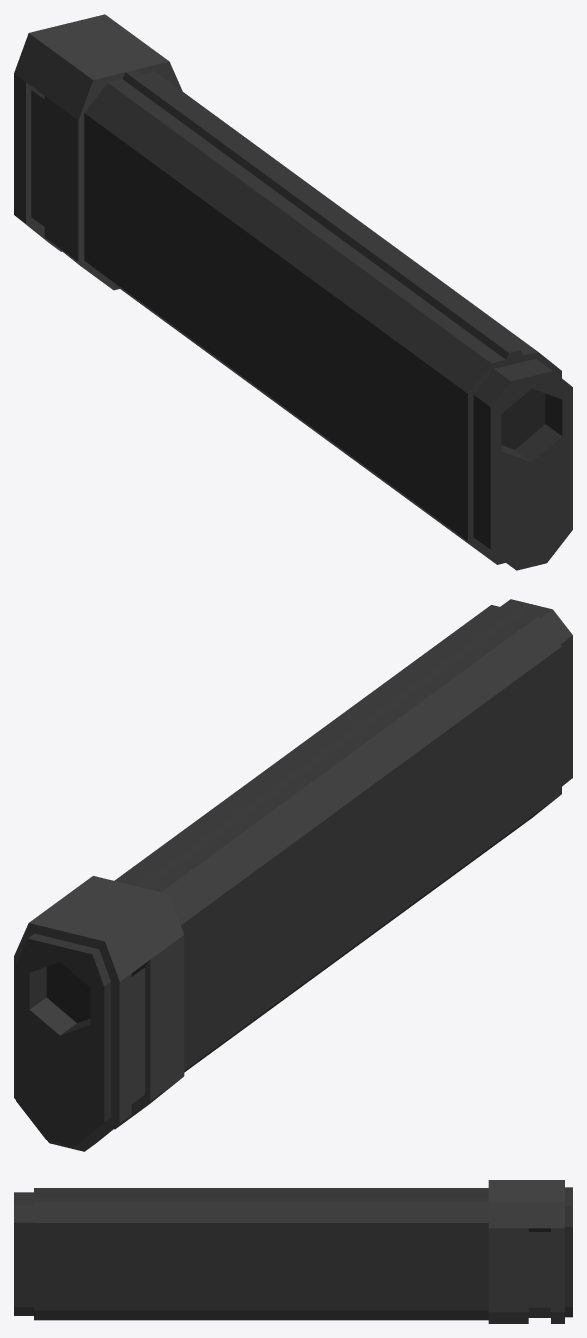
The model's file is Muzzle_ShotGun_Suppresor_A.fbx.
3 views of the same model, one above another, from view 1: azimuth 30°, elevation 25°; view 2: azimuth 150°, elevation 25°; view 3: azimuth 270°, elevation 25° (orthographic). The views are drawn at different scales.
Visible parts, largest first — view 1: Muzzle_ShotGun_Suppresor_A; view 2: Muzzle_ShotGun_Suppresor_A; view 3: Muzzle_ShotGun_Suppresor_A.
Part boxes in pixels (bbox=[...]): Muzzle_ShotGun_Suppresor_A: bbox=[14, 14, 572, 570]; Muzzle_ShotGun_Suppresor_A: bbox=[14, 599, 572, 1151]; Muzzle_ShotGun_Suppresor_A: bbox=[14, 1180, 572, 1323].
Size of the model in its own units: 0.045 by 0.0875 by 0.3475.
